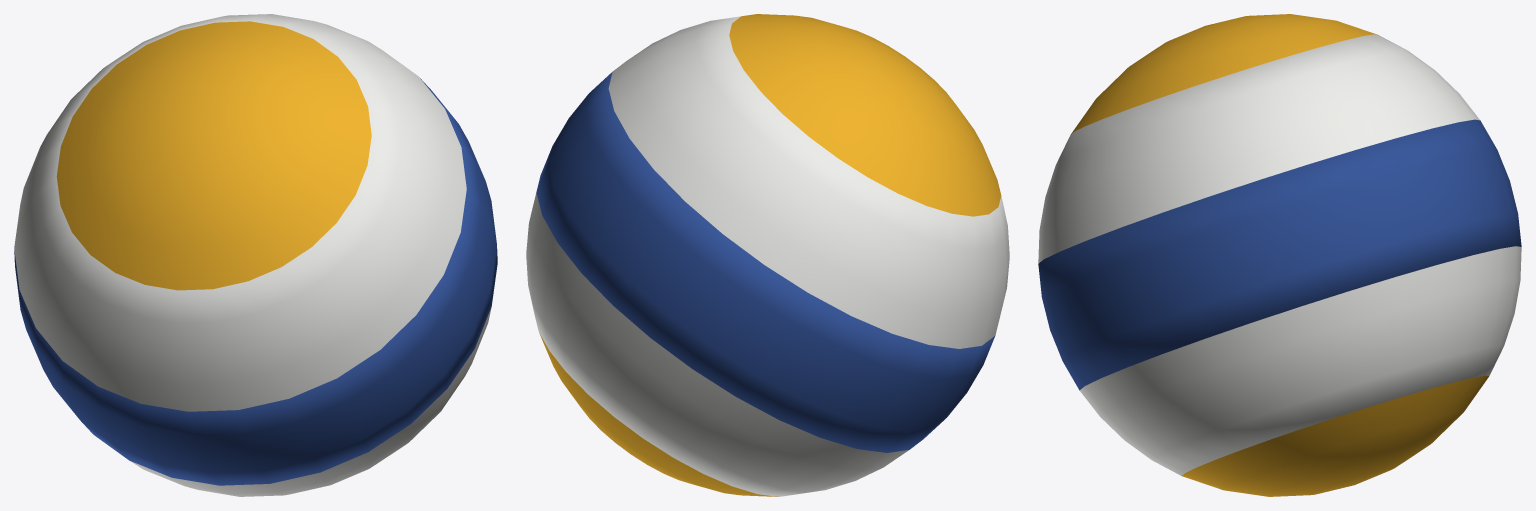
Rendered from Sport_Ball_Volley.glb.
3 views of the same model, side by side, from view 1: azimuth 30°, elevation 25°; view 2: azimuth 150°, elevation 25°; view 3: azimuth 270°, elevation 25° (orthographic).
Parts seen in each view (by area): view 1: Sport_Ball_Volley; view 2: Sport_Ball_Volley; view 3: Sport_Ball_Volley.
Part boxes in pixels (box(x1,y1,x2,y2)): Sport_Ball_Volley: box(14, 14, 497, 496); Sport_Ball_Volley: box(526, 14, 1009, 496); Sport_Ball_Volley: box(1038, 14, 1521, 496).
Bounding box in the file's own units: 0.798 × 0.7991 × 0.7995.
